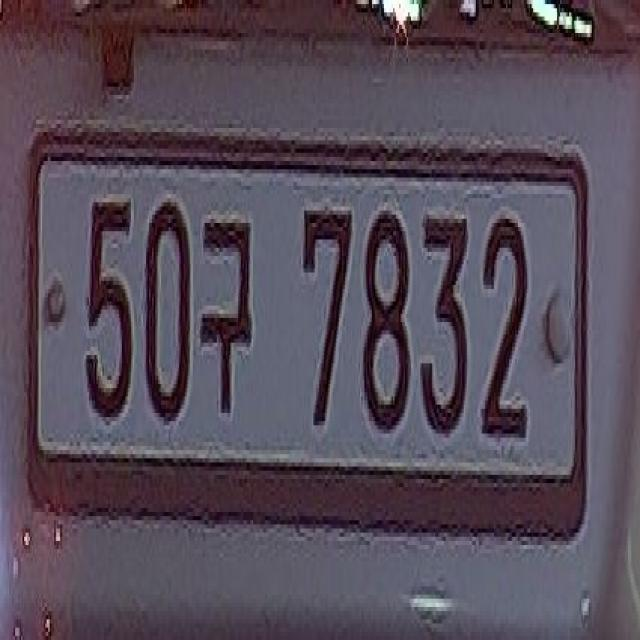0: (144, 185, 192, 428)
2: (481, 209, 532, 451)
3: (418, 202, 472, 447)
5: (84, 190, 135, 432)
7: (299, 193, 353, 447)
8: (362, 205, 412, 445)
gu: (198, 210, 260, 442)
license_plate: (27, 134, 584, 512)
